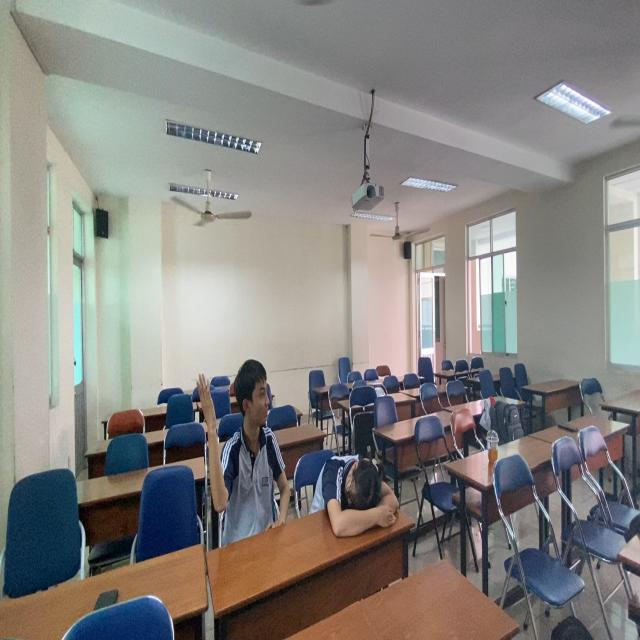raise_hand: (197, 358, 290, 530)
sleep: (310, 446, 406, 544)
